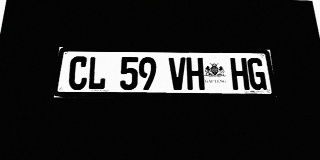5: (120, 57, 138, 90)
9: (139, 57, 156, 90)
C: (68, 56, 89, 90)
G: (247, 58, 267, 90)
H: (230, 58, 250, 90), (186, 57, 205, 90)
L: (87, 56, 107, 90)
V: (169, 57, 187, 90)
